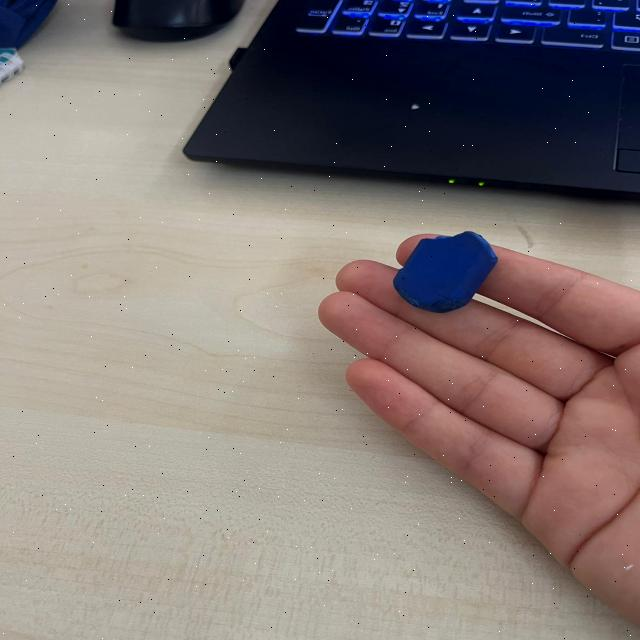eraser: (391, 225, 501, 318)
